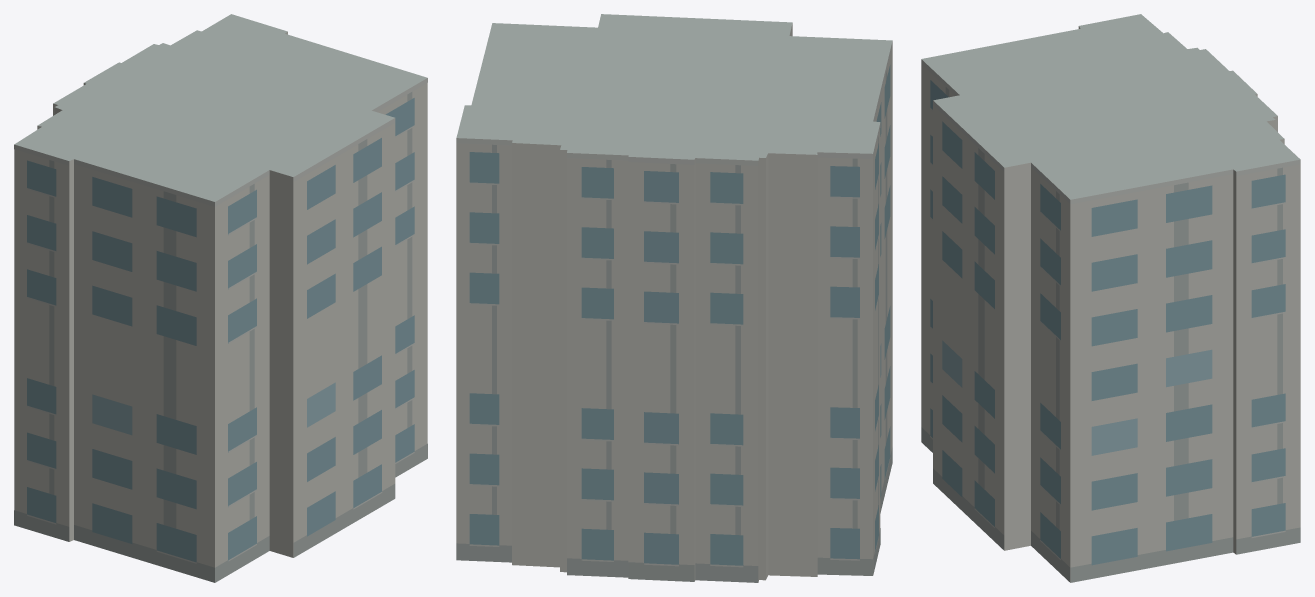
File: survey-upis-32996206.glb
3 views of the same model, side by side, from view 1: azimuth 30°, elevation 25°; view 2: azimuth 150°, elevation 25°; view 3: azimuth 270°, elevation 25° (orthographic). The views are drawn at different scales.
Parts seen in each view (by area): view 1: survey-upis-32996206.tmp; view 2: survey-upis-32996206.tmp; view 3: survey-upis-32996206.tmp.
Boxes of the visible parts, left/top/right/bottom form: survey-upis-32996206.tmp: left=14, top=14, right=427, bottom=582; survey-upis-32996206.tmp: left=456, top=14, right=892, bottom=582; survey-upis-32996206.tmp: left=921, top=14, right=1300, bottom=582.
Bounding box in the file's own units: 20.34 × 19.55 × 17.56.
